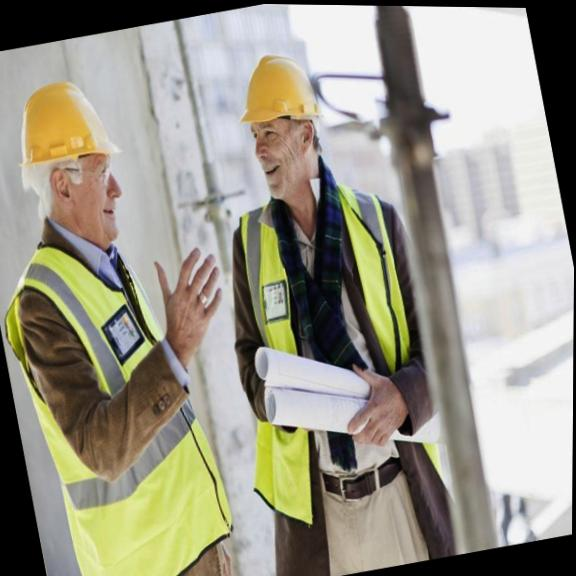safety_vest: (196, 173, 447, 555), (0, 226, 226, 576)
